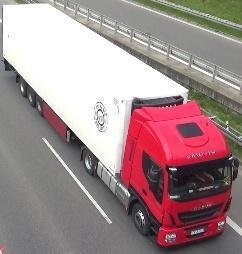truck: (3, 4, 239, 248)
